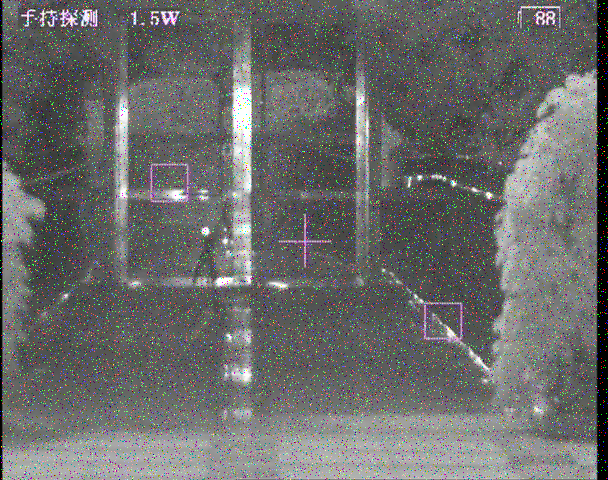my: (199, 226, 211, 237)
